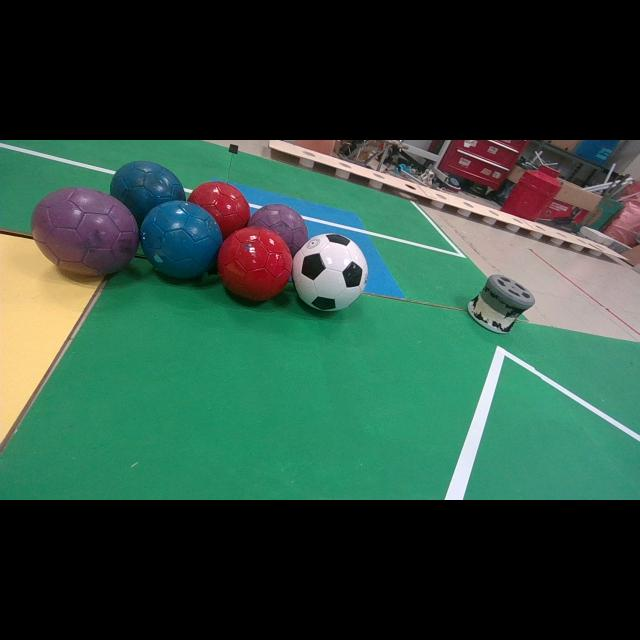B: (140, 201, 222, 278), (110, 160, 185, 223)
P: (31, 188, 139, 276), (248, 204, 309, 256)
R: (218, 228, 292, 301), (189, 182, 250, 238)
